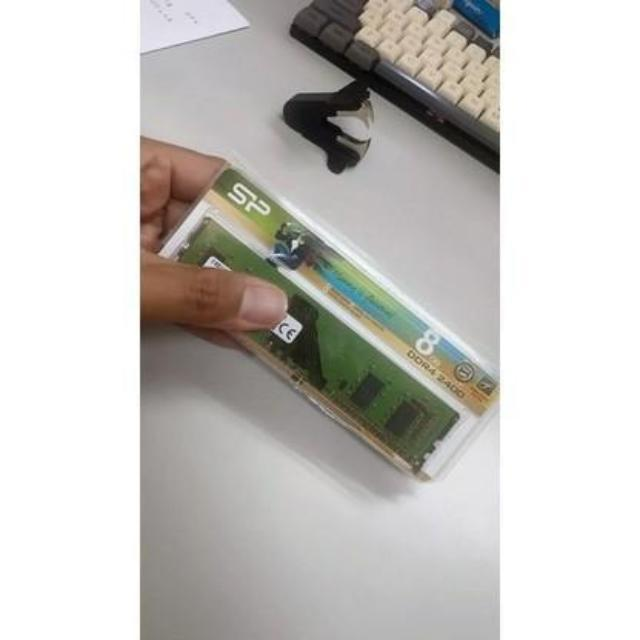RAM: (168, 212, 460, 482)
